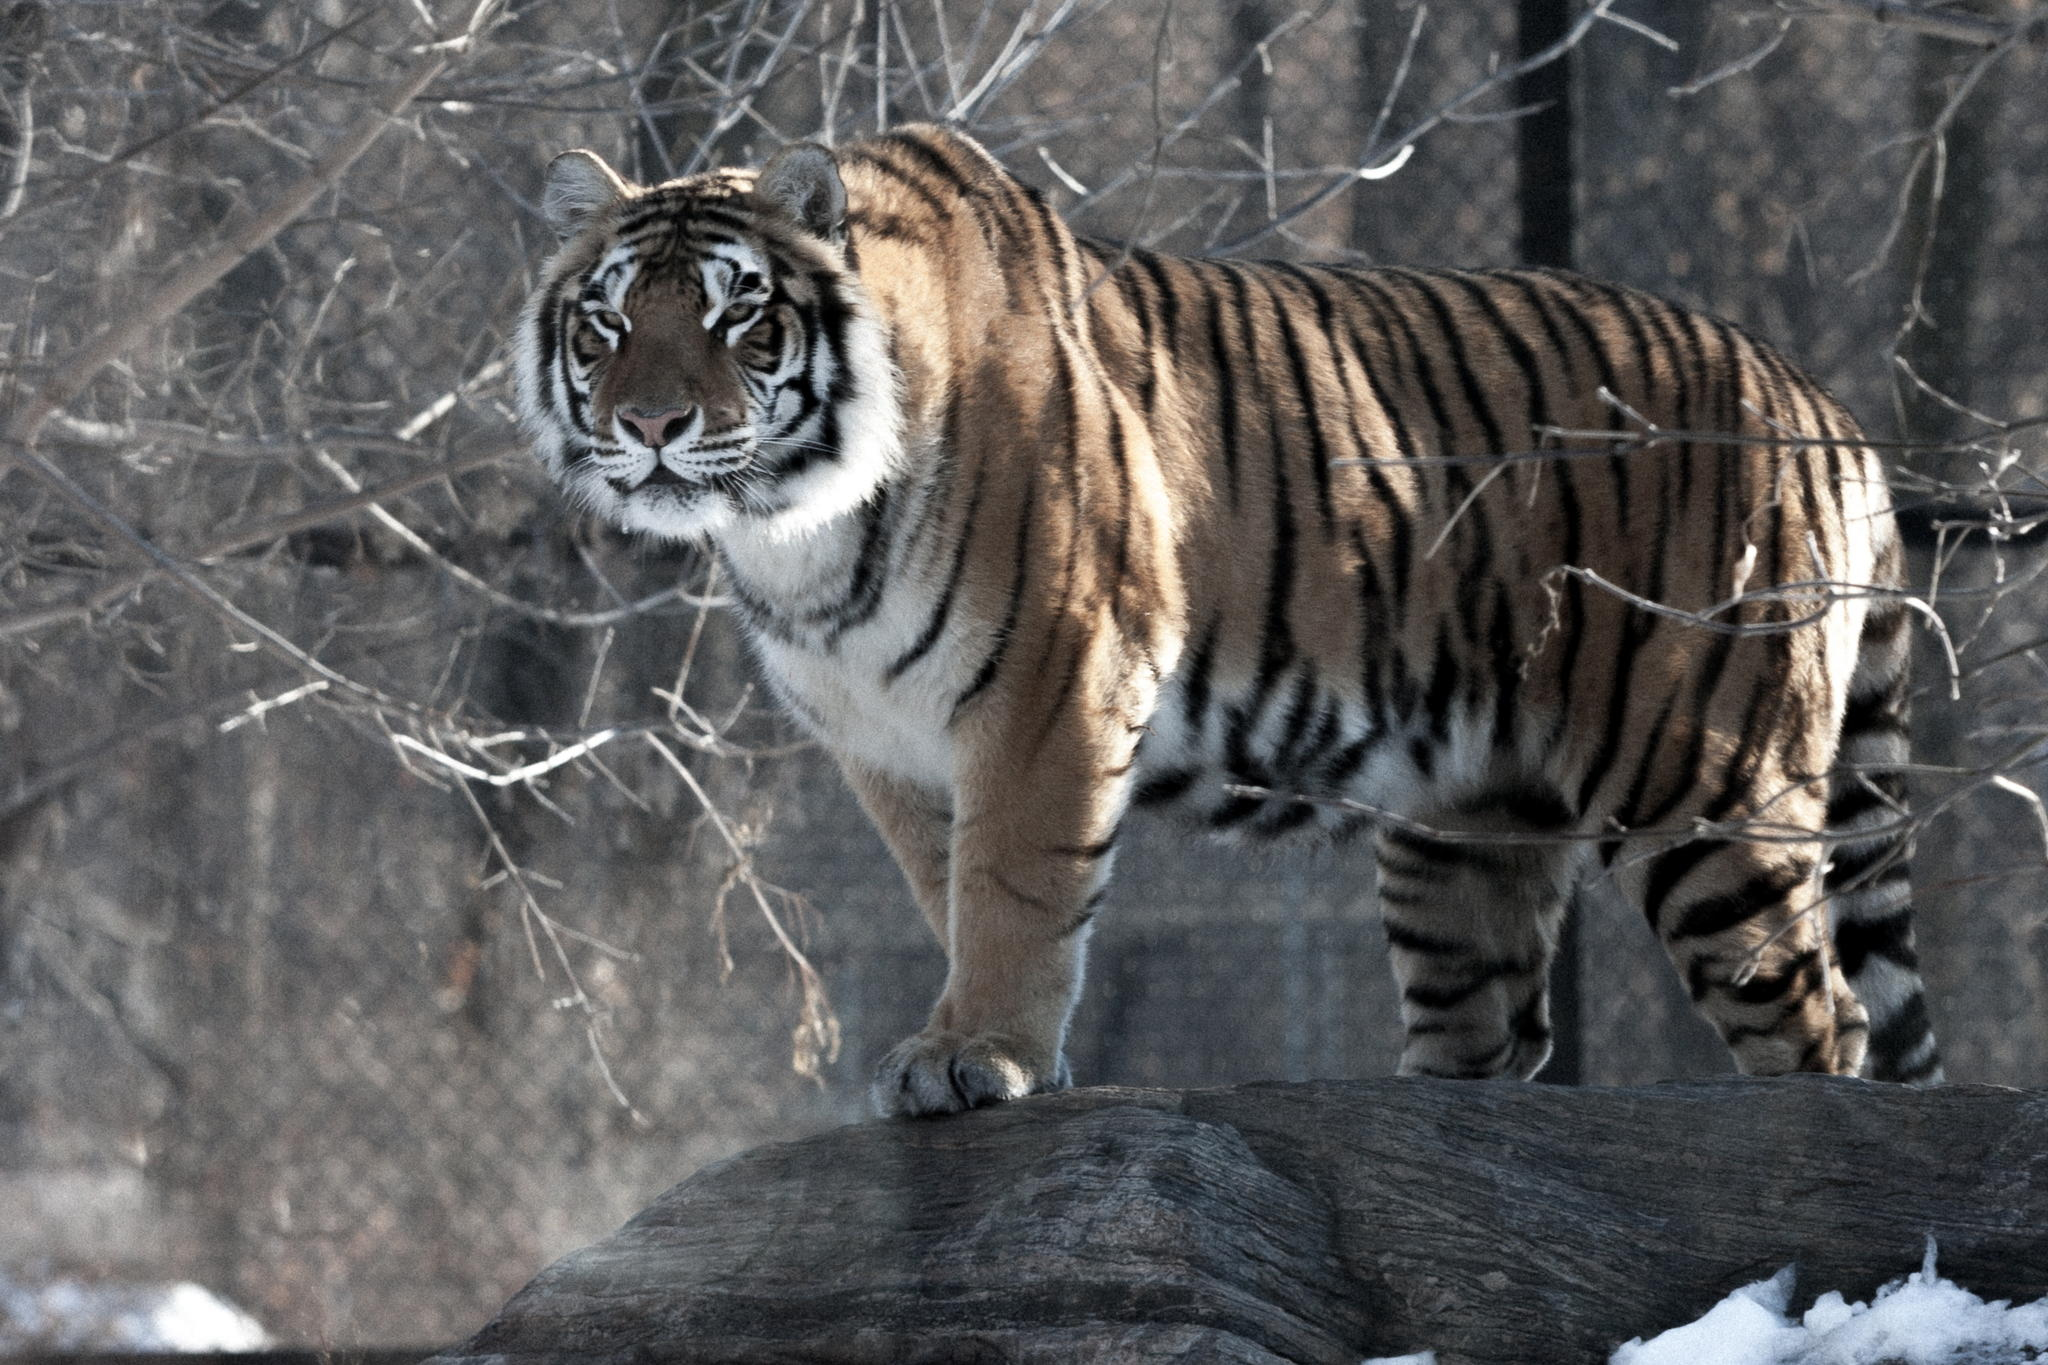tiger: (490, 136, 2005, 1191)
